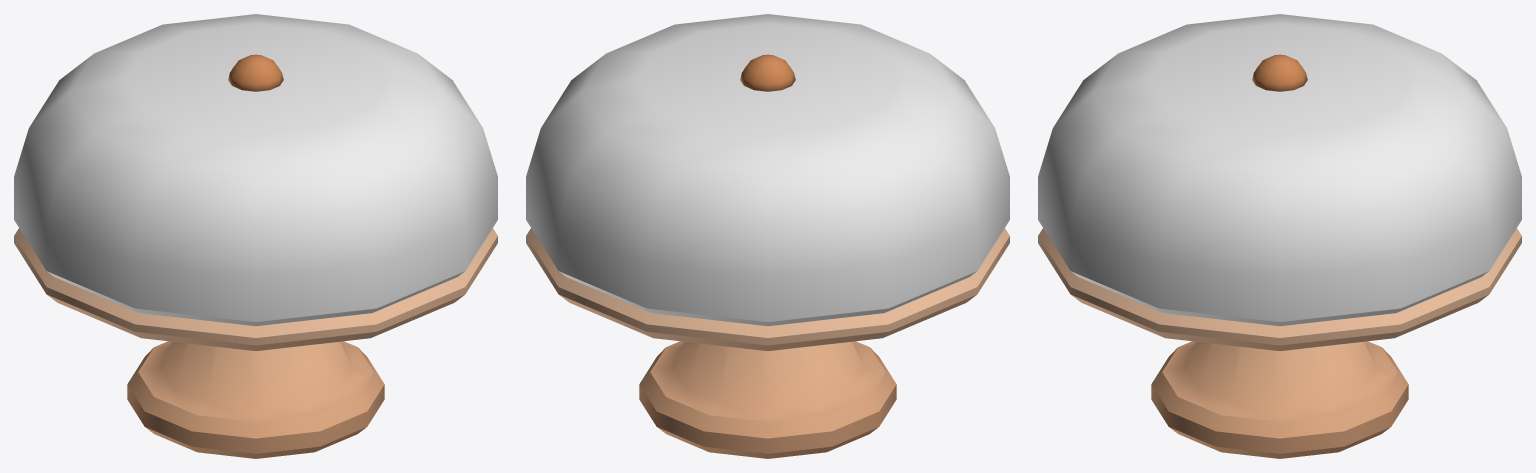
The model's file is Mdl_Cake_Mold.fbx.
3 renders of one model, left to right at view 1: azimuth 30°, elevation 25°; view 2: azimuth 150°, elevation 25°; view 3: azimuth 270°, elevation 25°, orthographic.
Visible parts, largest first — view 1: Mesh_Cake_Mold; view 2: Mesh_Cake_Mold; view 3: Mesh_Cake_Mold.
Part boxes in pixels (left/top/right/bottom): Mesh_Cake_Mold: left=14, top=14, right=497, bottom=458; Mesh_Cake_Mold: left=526, top=14, right=1009, bottom=458; Mesh_Cake_Mold: left=1038, top=14, right=1521, bottom=458.
Size of the model in its own units: 307 by 246 by 307.
